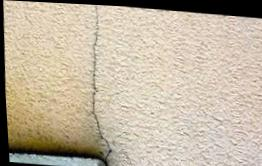crack: (90, 4, 110, 166)
